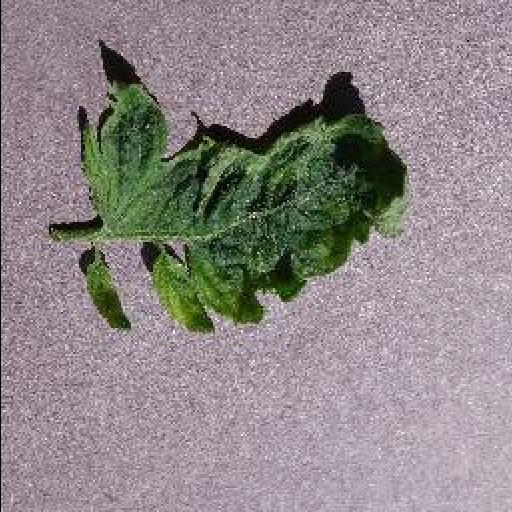Mosaic Virus: (76, 80, 416, 334)
